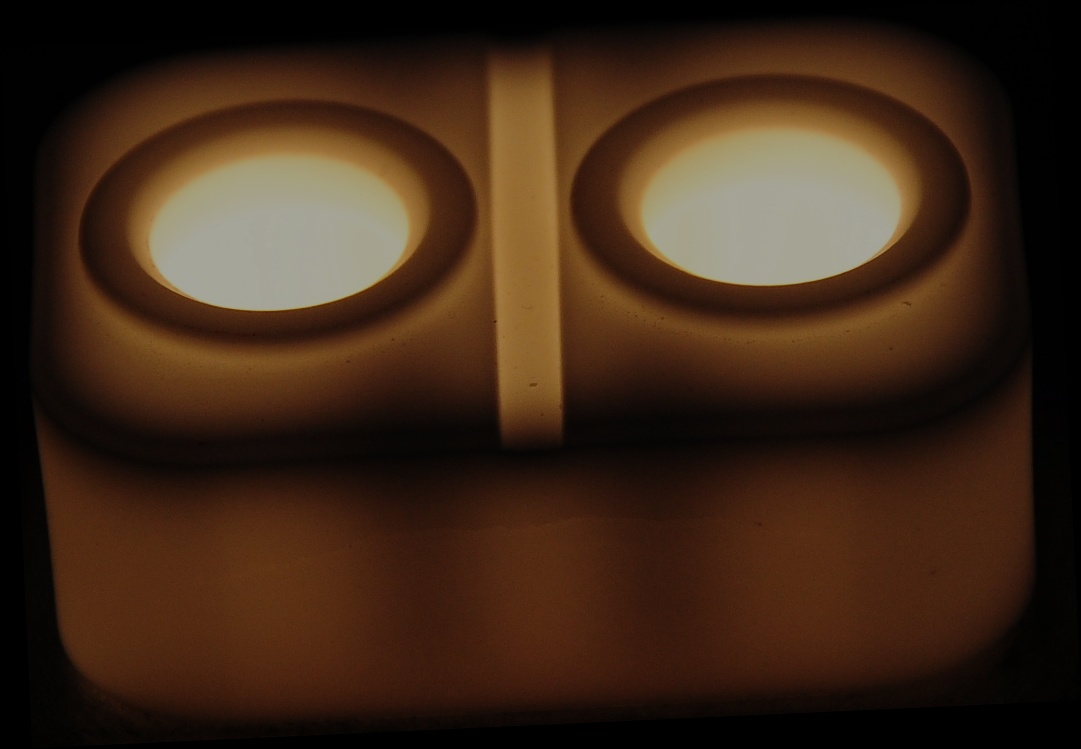flaw: (135, 505, 915, 609)
protrusion: (486, 313, 501, 331)
